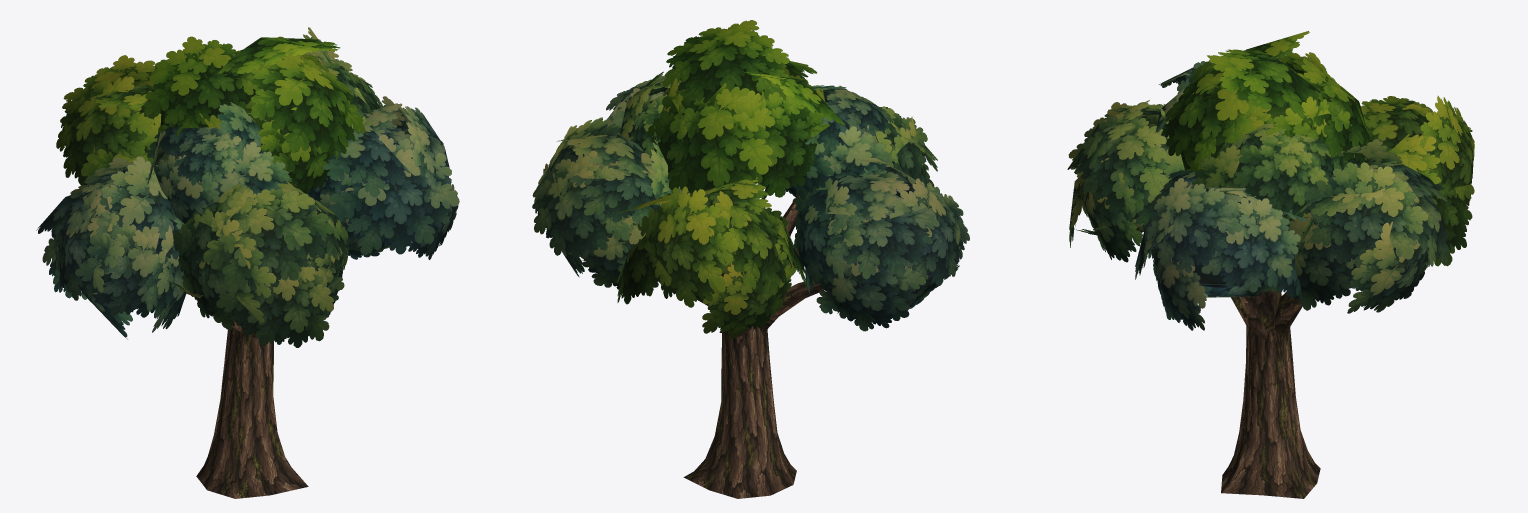
File: tree_hill_oak.glb
3 renders of one model, left to right at view 1: azimuth 30°, elevation 25°; view 2: azimuth 150°, elevation 25°; view 3: azimuth 270°, elevation 25°, orthographic. The views are drawn at different scales.
Parts seen in each view (by area): view 1: tree_hill_oak; view 2: tree_hill_oak; view 3: tree_hill_oak.
Part boxes in pixels (<box>): tree_hill_oak: <box>36,27,459,498</box>; tree_hill_oak: <box>532,20,969,498</box>; tree_hill_oak: <box>1067,31,1474,498</box>.
Bounding box in the file's own units: 6.45 × 6.32 × 6.48.
2 materials, 2 textured.
